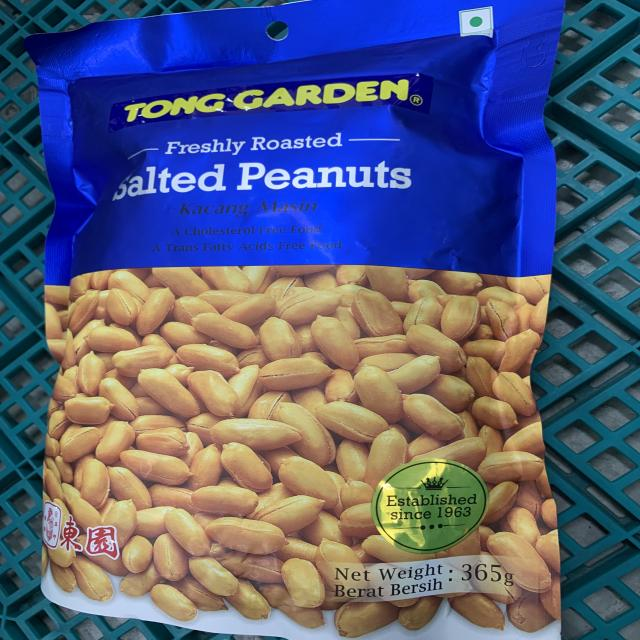object_name: (34, 27, 557, 640)
